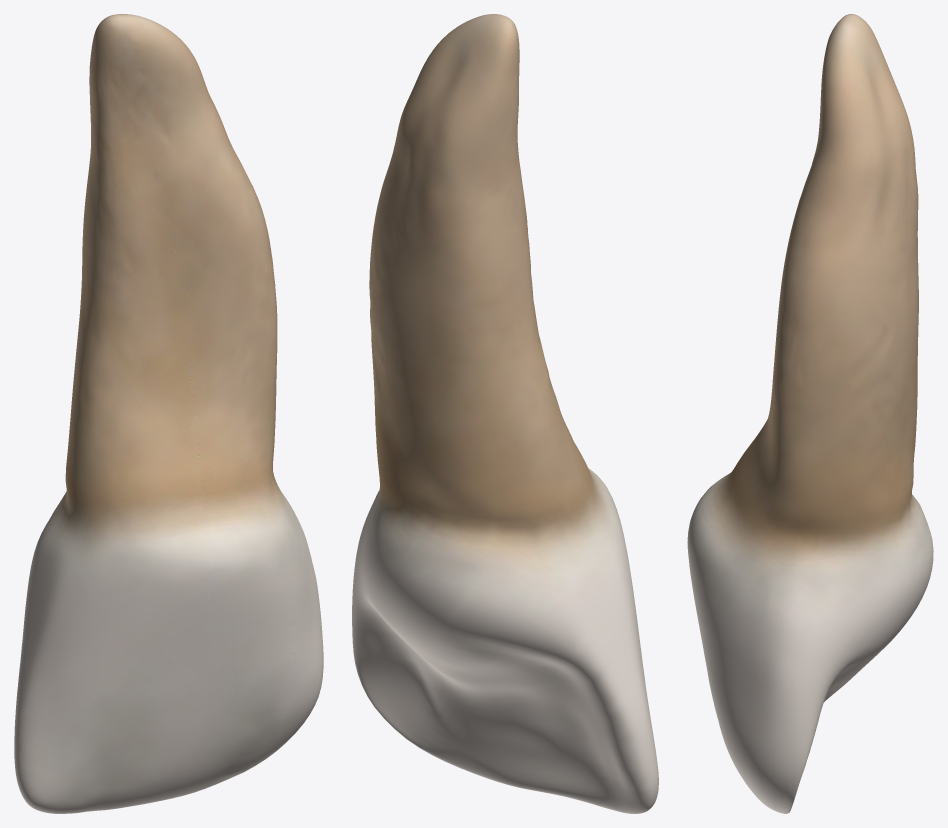
3 renders of one model, left to right at view 1: azimuth 30°, elevation 25°; view 2: azimuth 150°, elevation 25°; view 3: azimuth 270°, elevation 25°, orthographic. The views are drawn at different scales.
Parts seen in each view (by area): view 1: diente-61; view 2: diente-61; view 3: diente-61.
Part boxes in pixels (left/top/right/bottom): diente-61: left=14, top=14, right=323, bottom=813; diente-61: left=352, top=14, right=658, bottom=813; diente-61: left=687, top=14, right=933, bottom=813.
Size of the model in its own units: 0.00642 by 0.016 by 0.00469.
Materials: 1 (1 with a texture image).
